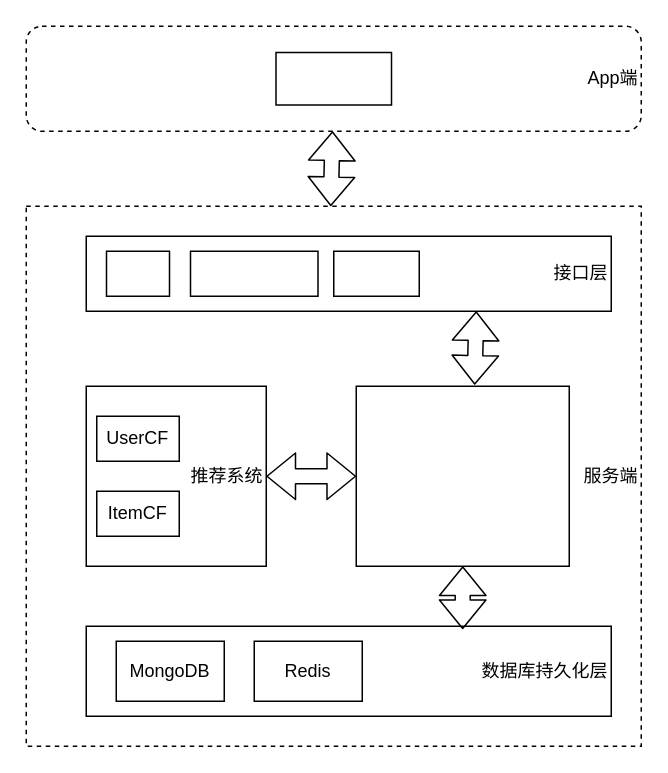
Image size: 668x773. Some labels were removed from this diagram. Here are the shapes that lost their labels. From the top down, the centre of each, then its label:
(333,78): app
(137,273): http
(253,273): LBS云接口
(375,273): web框架
(462,475): 后台逻辑层
